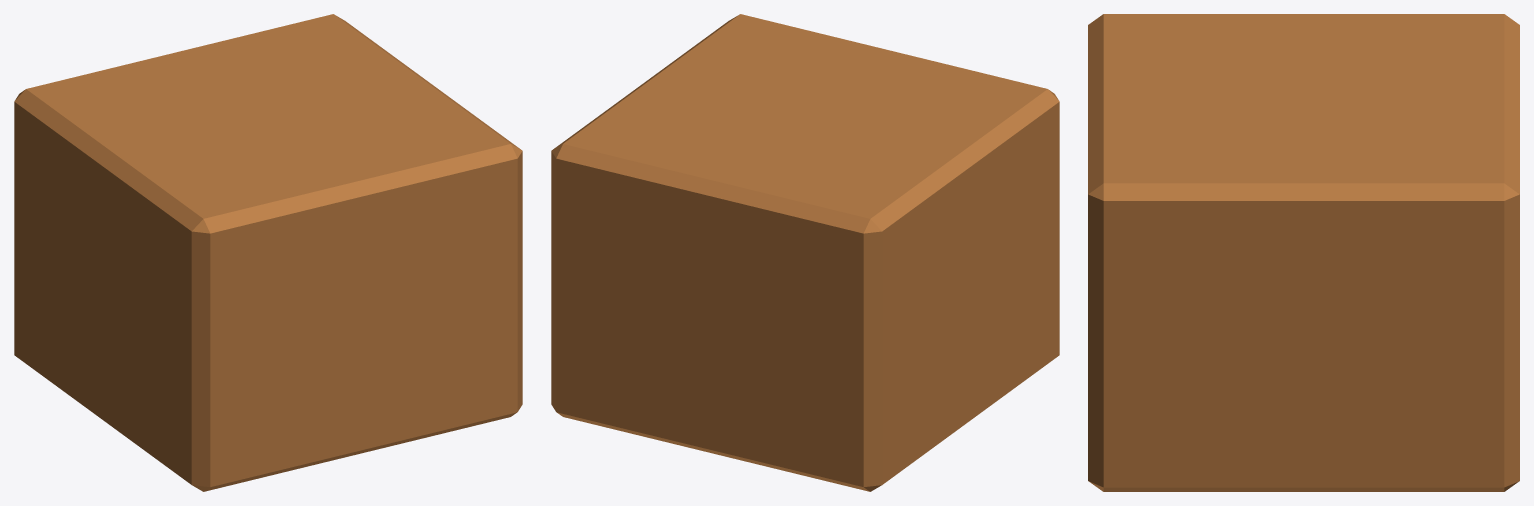
The picture shows the model from 3 angles, left to right: view 1: azimuth 30°, elevation 25°; view 2: azimuth 150°, elevation 25°; view 3: azimuth 270°, elevation 25°; orthographic projection. The views are drawn at different scales.
Parts seen in each view (by area): view 1: box1; view 2: box1; view 3: box1.
Boxes of the visible parts, x1=… form: box1: x1=14, y1=14, x2=522, y2=491; box1: x1=551, y1=14, x2=1059, y2=491; box1: x1=1088, y1=14, x2=1519, y2=491.
Size of the model in its own units: 200 by 158 by 200.
